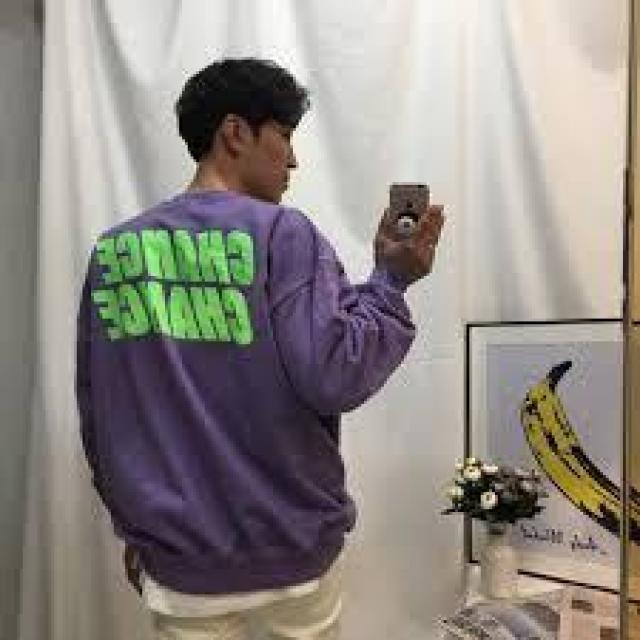sweater: (64, 182, 420, 614)
